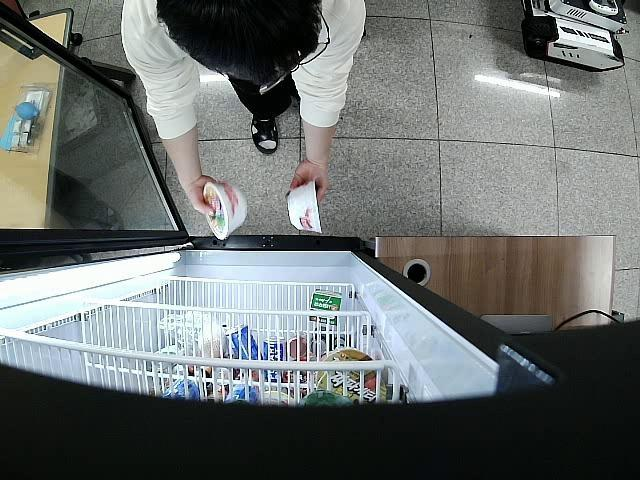09_yukGaeJang: (203, 180, 247, 239), (286, 180, 321, 233)
